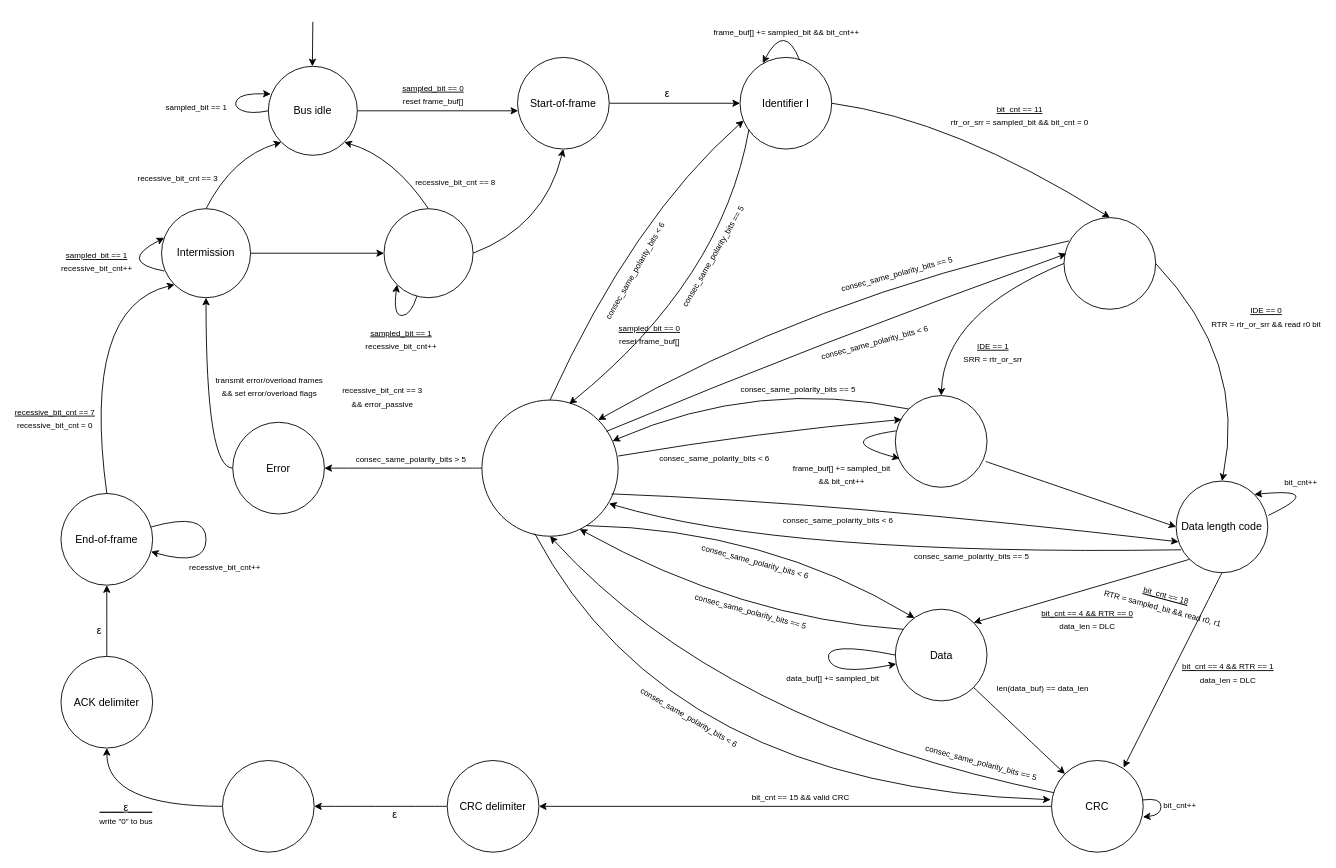
Image size: 1336x868. Some labels were removed from this diagram. Here are the shapes that lost their labels. From the top down, the box of each, then its label:
(383, 208, 473, 298): Suspend transmission
(1063, 217, 1156, 309): Identifier extension
(894, 395, 987, 487): Identifier II
(481, 399, 618, 536): Bit stuffing
(222, 760, 314, 852): ACK slot
